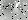person: (14, 3, 21, 14), (20, 4, 27, 13)
